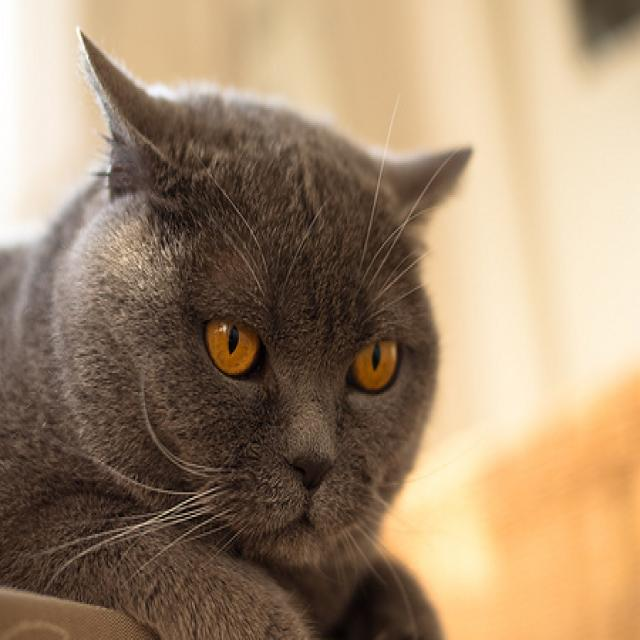British Shorthair: (0, 24, 475, 640)
